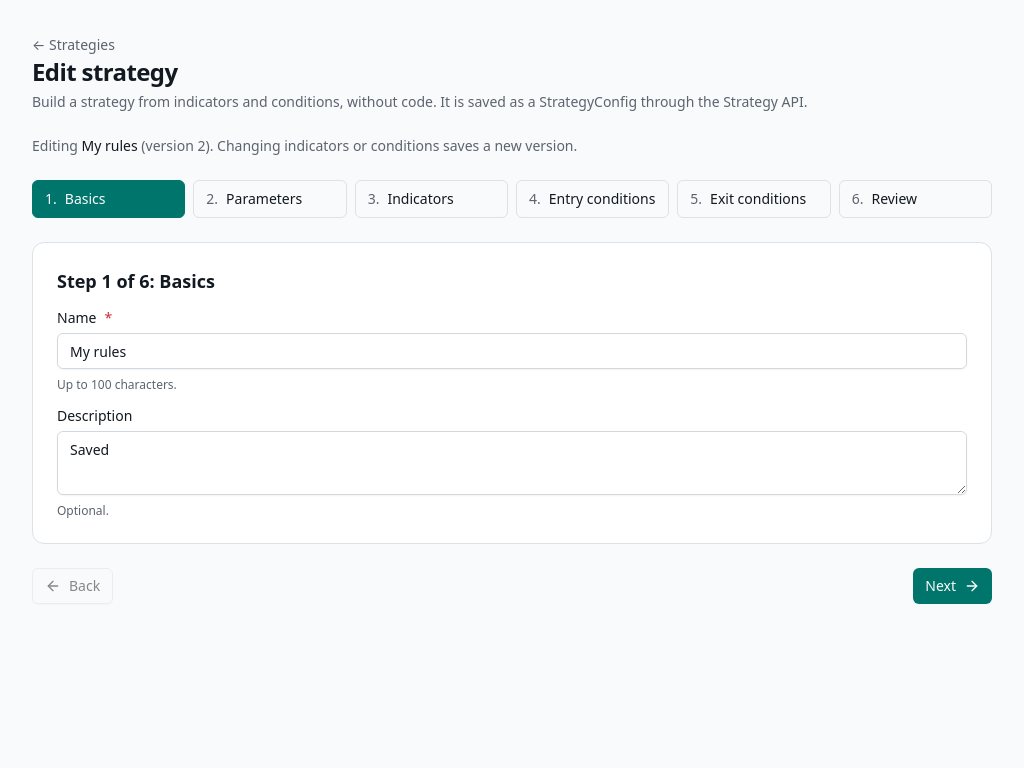
Test: BuilderPage (no-code builder) › renaming an indicator keeps its conditions pointing at it
Expected: the text "version 2" is shown, top-left (32, 136), bottom-right (577, 155)
Click the button "3. Indicators": x=431, y=199 top-left (355, 180), bottom-right (508, 218)
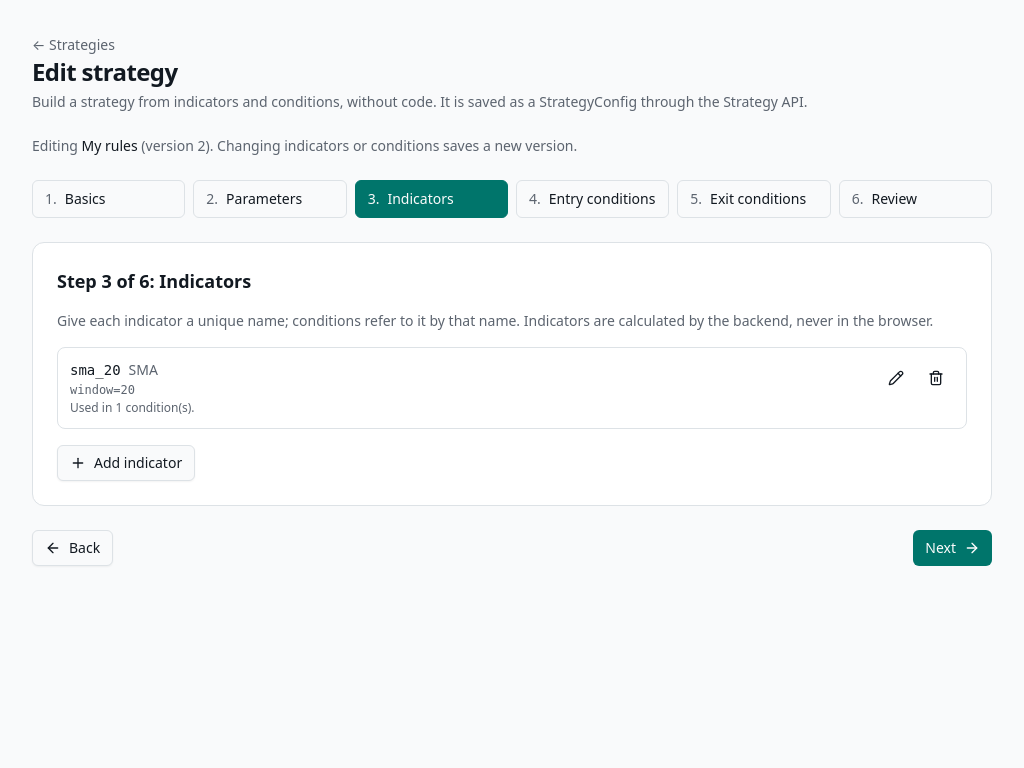
Click the button named "Edit sma_20": x=896, y=378 top-left (878, 360), bottom-right (914, 396)
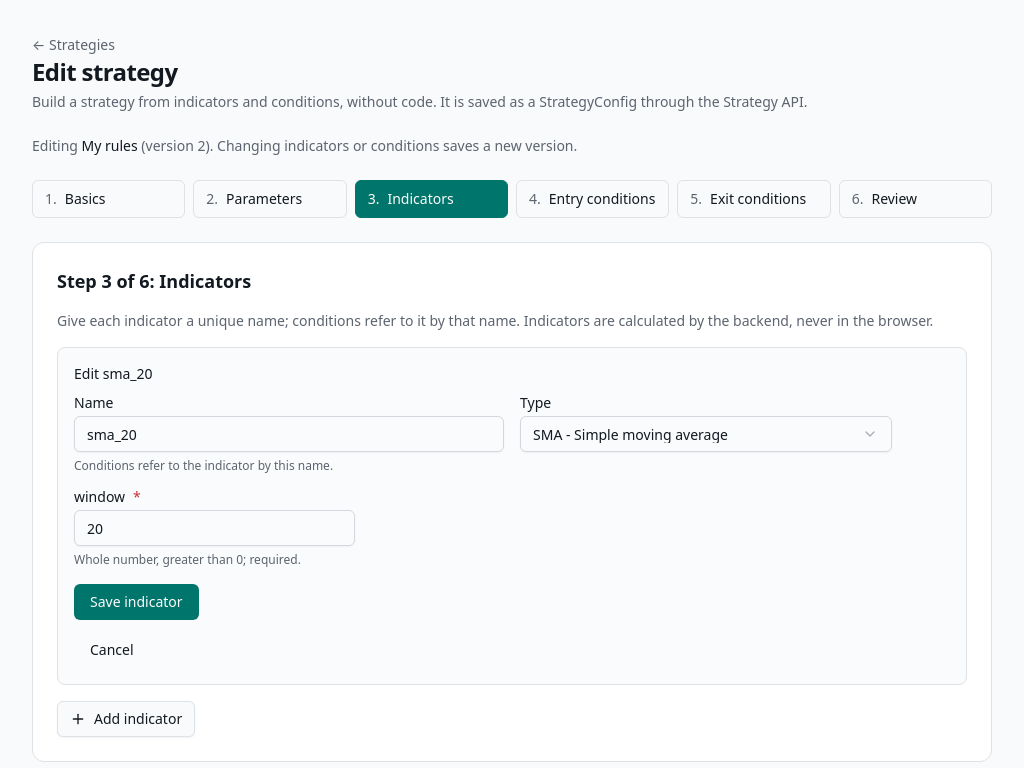
Replace the text in the field labelled "Name" with "sma_fast": x=289, y=434 top-left (74, 416), bottom-right (504, 452)
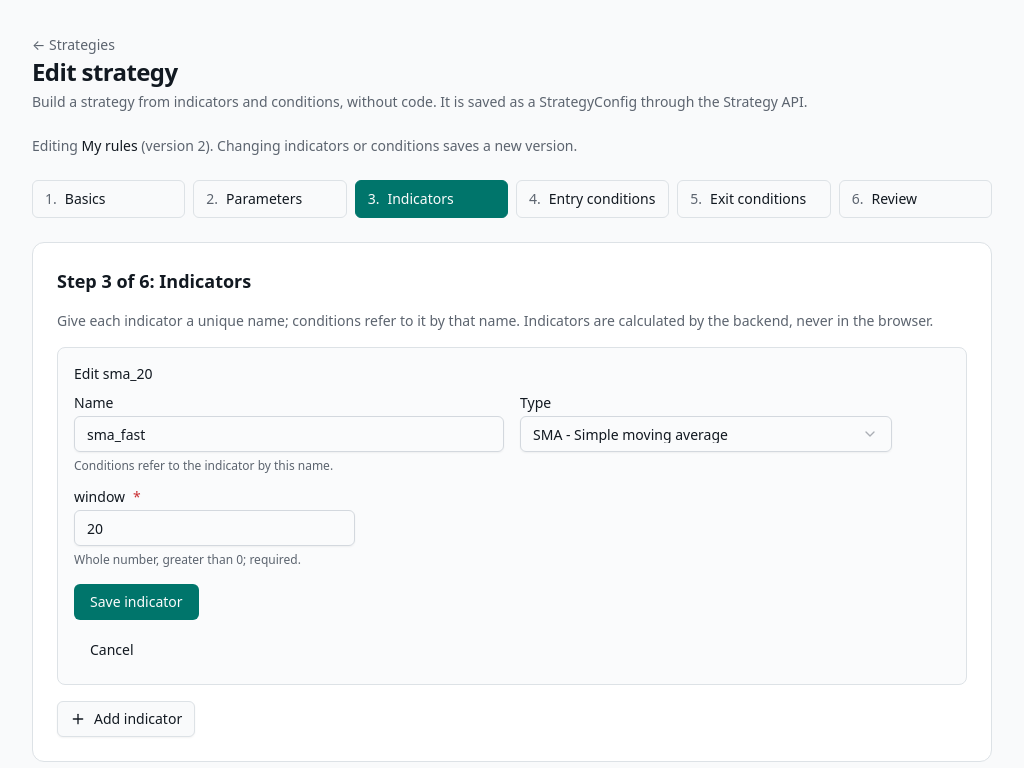
Click the button "Save indicator": x=136, y=602 top-left (74, 584), bottom-right (199, 620)
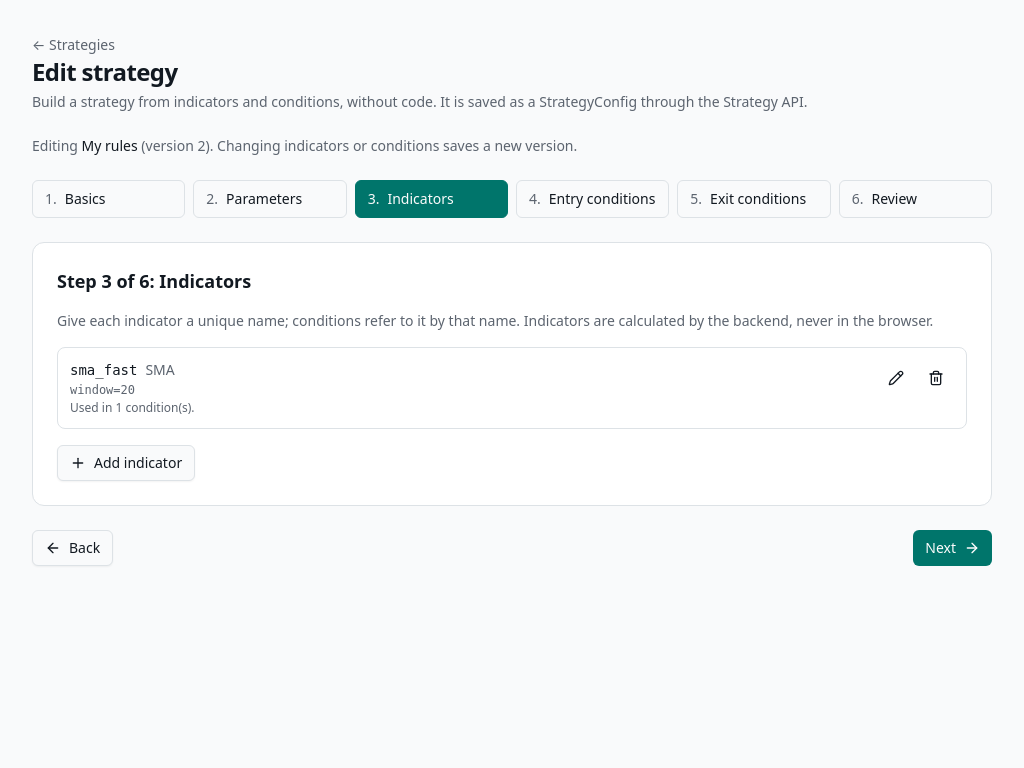
Expected: the text "sma_fast" is shown, top-left (70, 362), bottom-right (137, 378)
Click the button "6. Review": x=915, y=199 top-left (839, 180), bottom-right (992, 218)
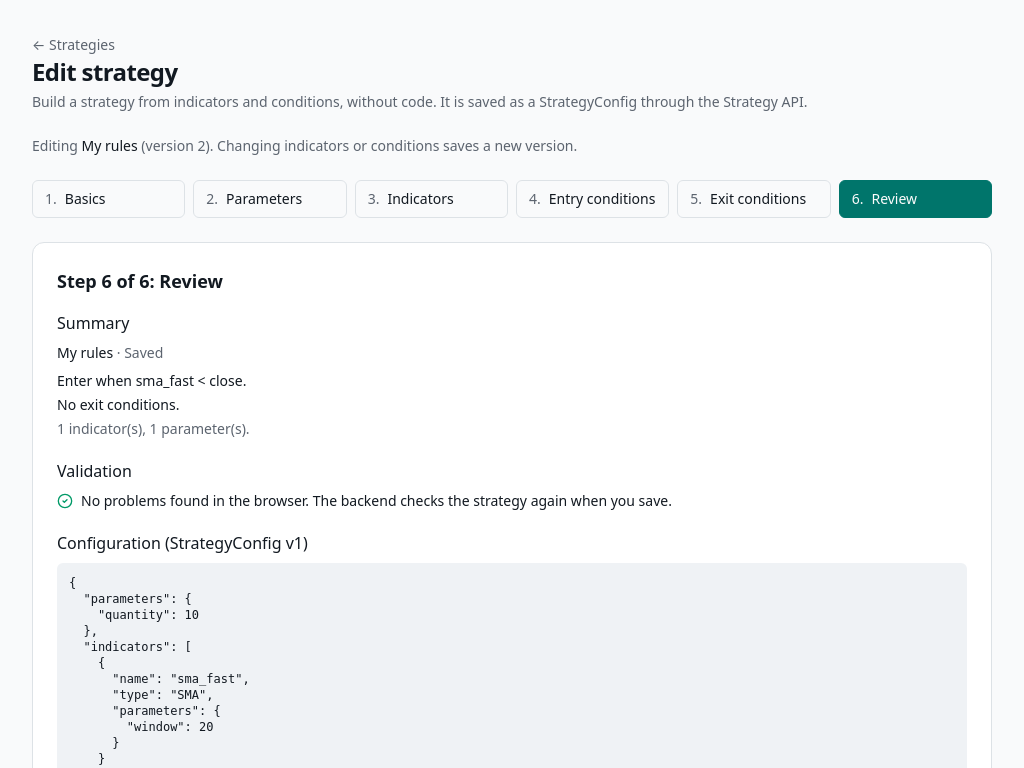
Expected: the list item "Enter when sma_fast < close." is shown, top-left (57, 371), bottom-right (246, 390)
